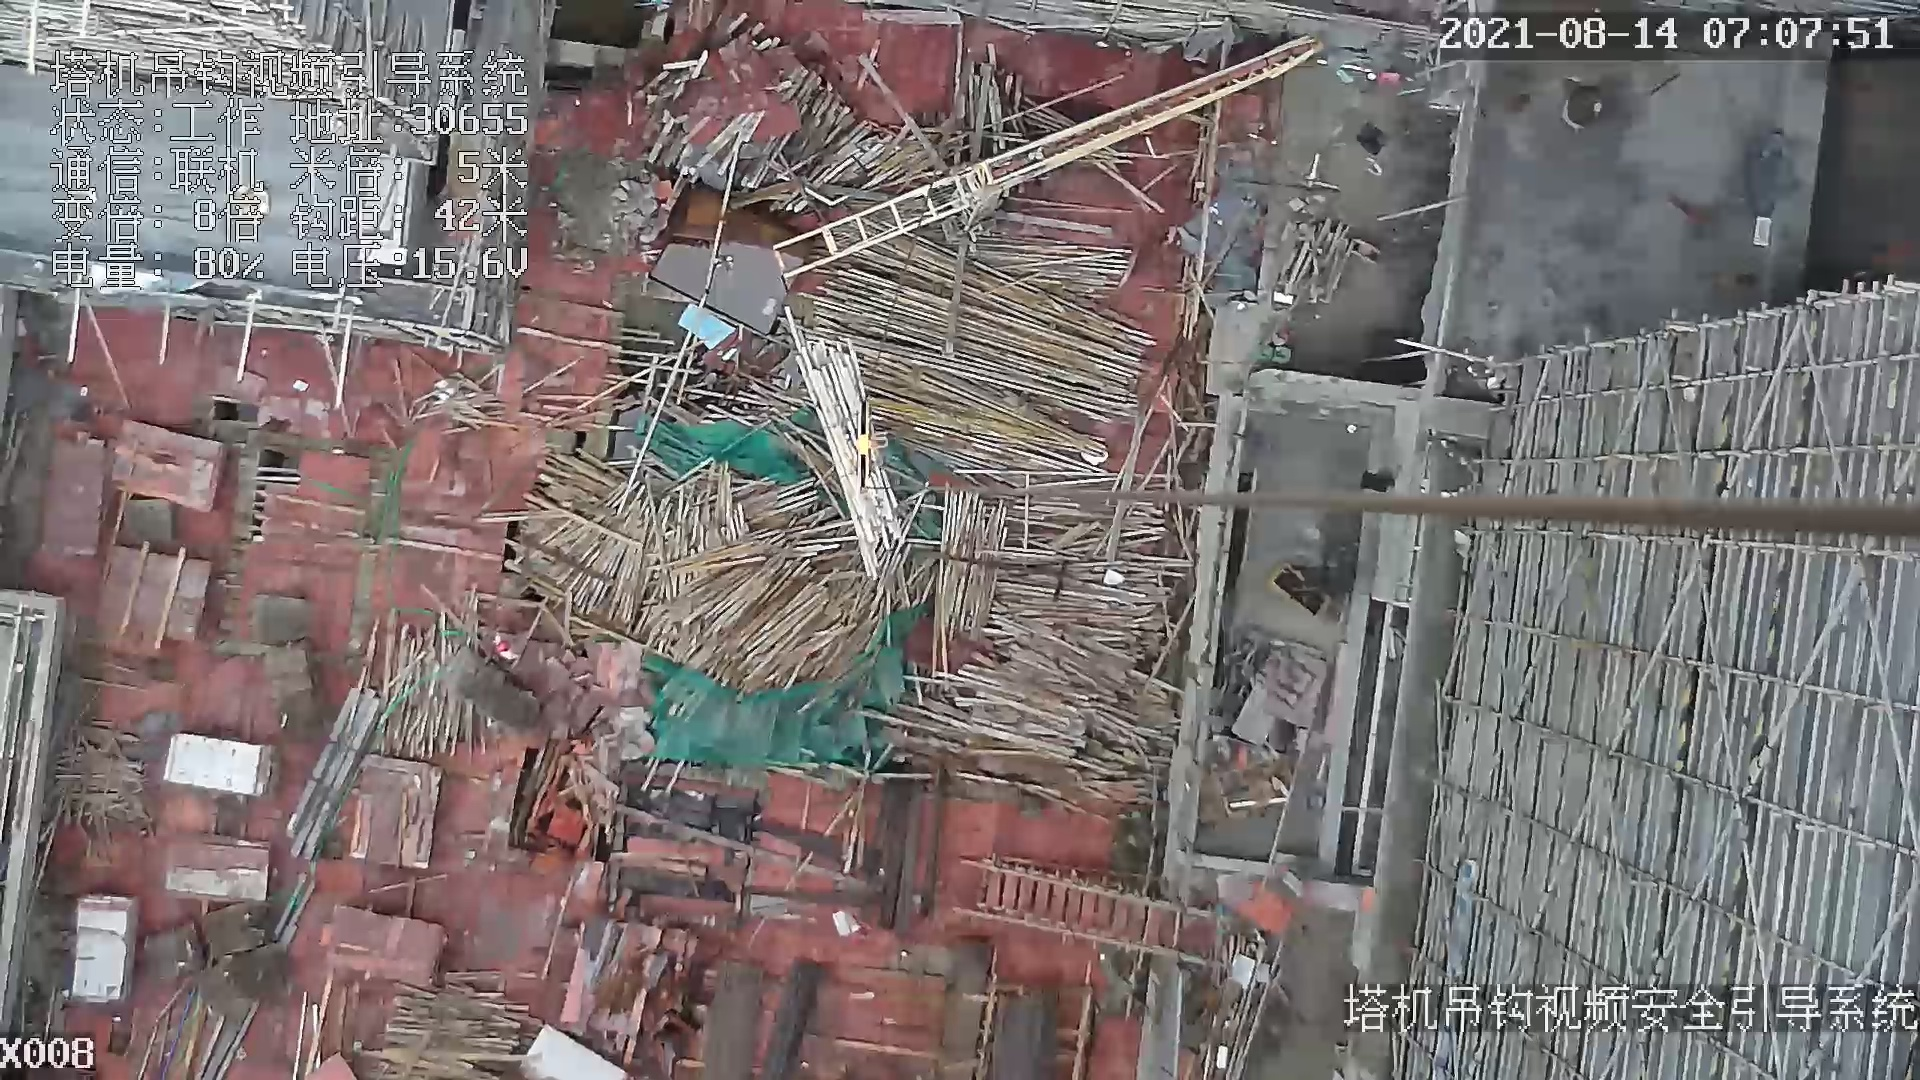hook: (849, 400, 897, 496)
